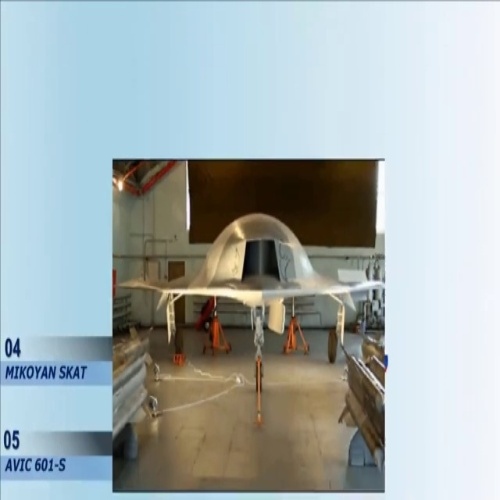uav1025: (119, 208, 383, 348)
